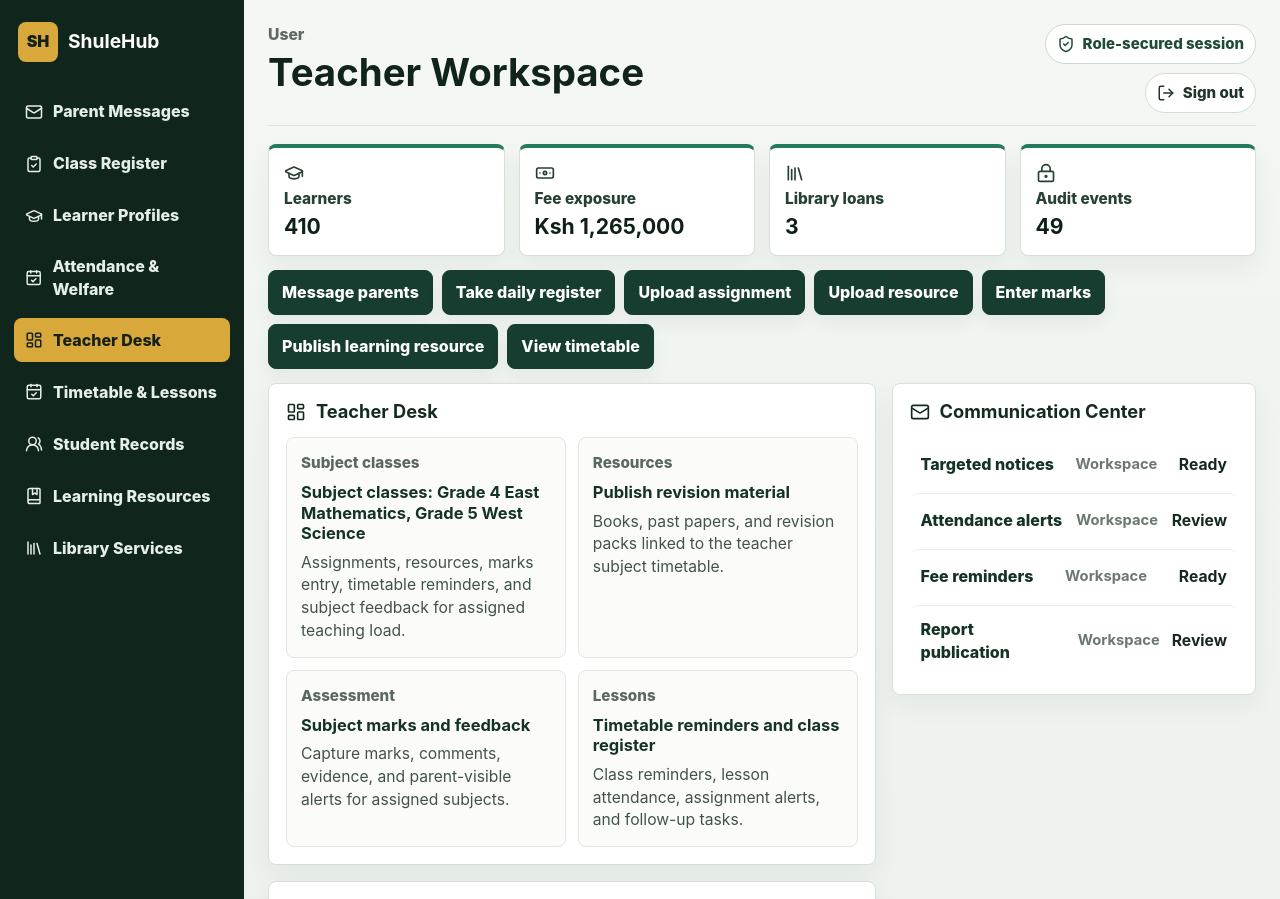
App › table row buttons open concrete teacher task pages
This screenshot has width=1280, height=899.
Click the button with aria-label "Daily register": coordinates (624, 695) [578,670,858,847]
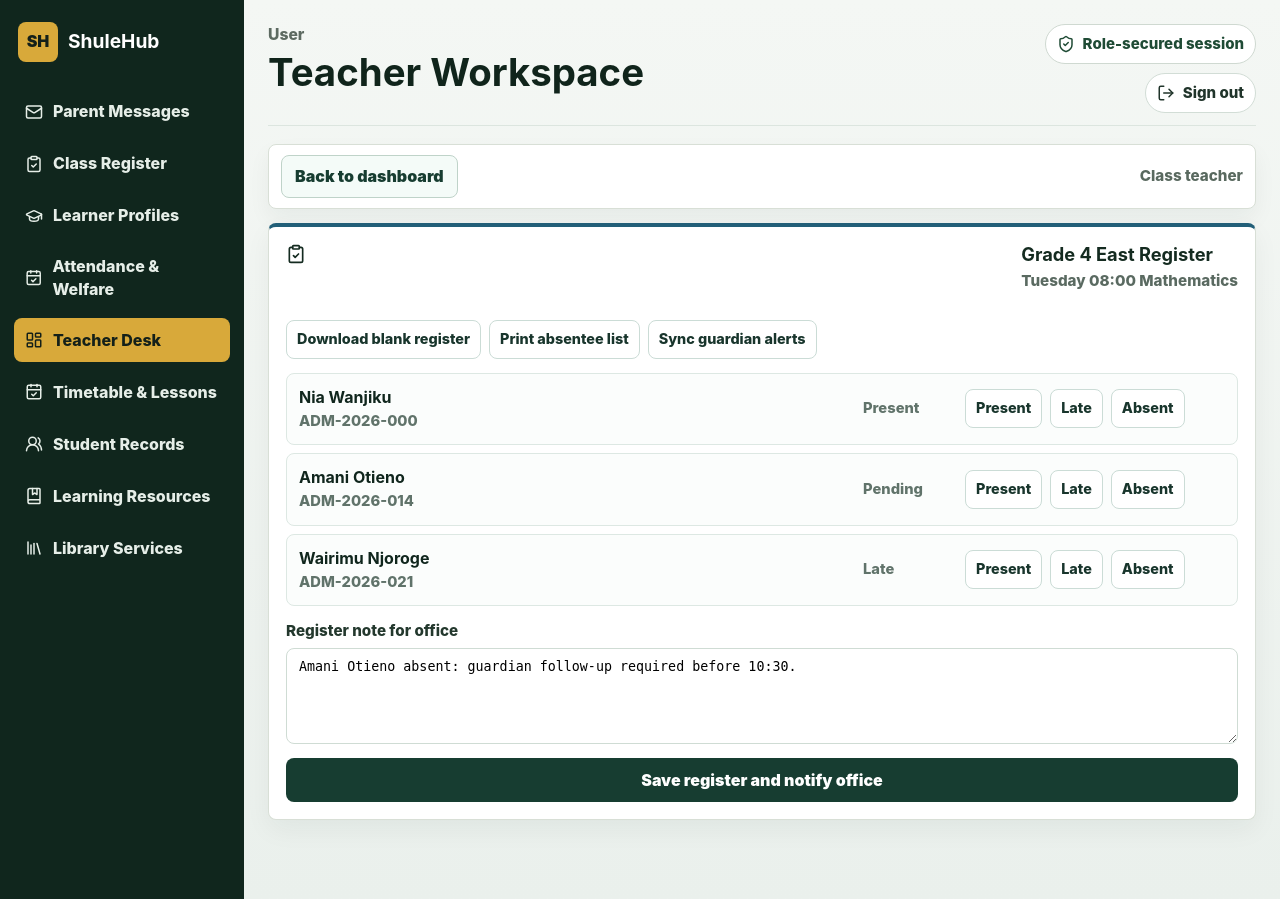
Check: the heading "Grade 4 East Register" is shown, box [1021,244,1238,266]
Check: the text "Tuesday 08:00 Mathematics" is shown, box [1021,270,1238,292]
Check: the button "Save register and notify office" is shown, box [286,758,1238,802]
